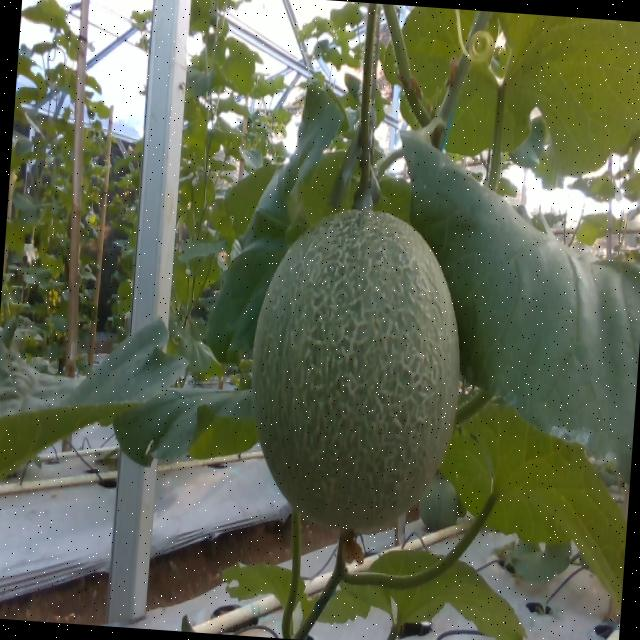melon: (253, 210, 460, 530)
